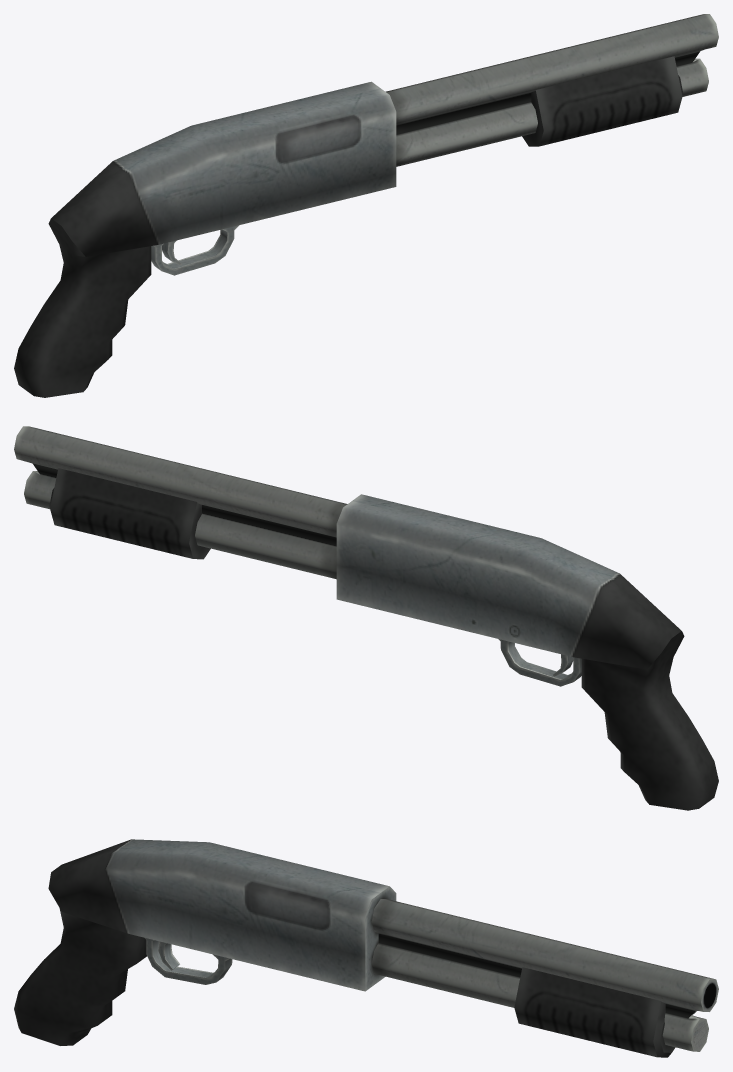
Rendered from Shotgun.FBX.
3 views of the same model, one above another, from view 1: azimuth 30°, elevation 25°; view 2: azimuth 150°, elevation 25°; view 3: azimuth 330°, elevation 25° (orthographic).
Parts seen in each view (by area): view 1: Shotgun; view 2: Shotgun; view 3: Shotgun.
Boxes of the visible parts, bbox=[...] form: Shotgun: bbox=[14, 14, 718, 397]; Shotgun: bbox=[14, 426, 718, 810]; Shotgun: bbox=[14, 839, 718, 1057].
Size of the model in its own units: 69.6 by 21.3 by 5.43.
